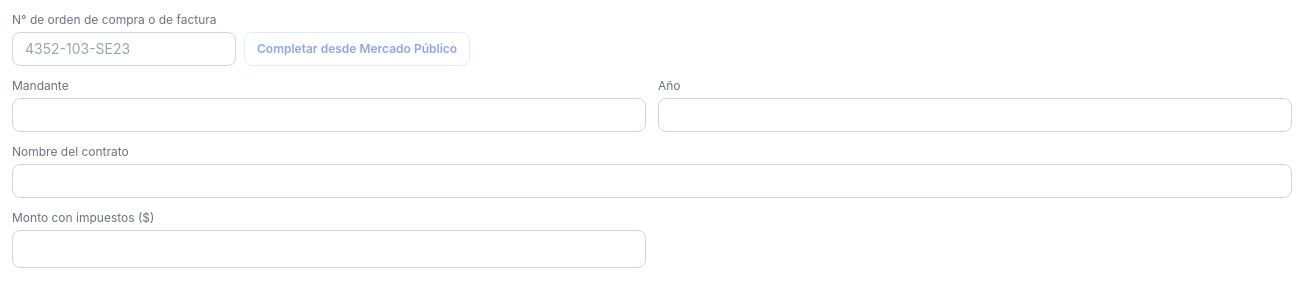
it: El respaldo de experiencia › con un número de orden de compra trae mandante, contrato, año y monto, y avisa si es de otro proveedor
Check: the button "Completar desde Mercado Público" is disabled, box top-left (244, 32), bottom-right (470, 66)
Type "4352-103-se23" into the field named "N° de orden de compra o de factura". click: (124, 49)
box: top-left (12, 32), bottom-right (236, 66)
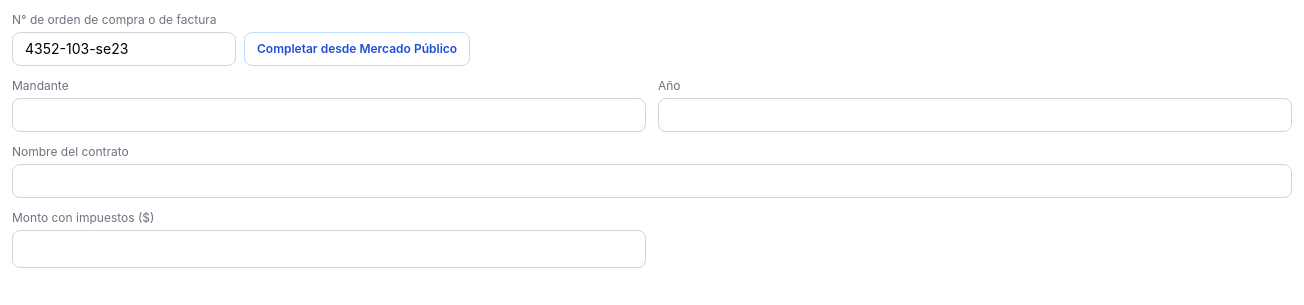
Check: the button "Completar desde Mercado Público" is enabled
Click the button "Completar desde Mercado Público". click: (357, 49)
box: top-left (244, 32), bottom-right (470, 66)
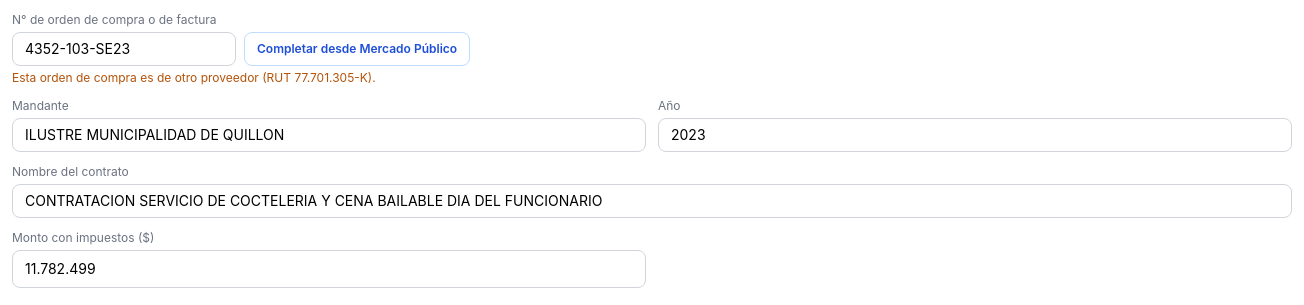
Check: the text "Esta orden de compra es de otro proveedor (RUT 77.701.305-K)." is shown, box top-left (12, 70), bottom-right (376, 85)
